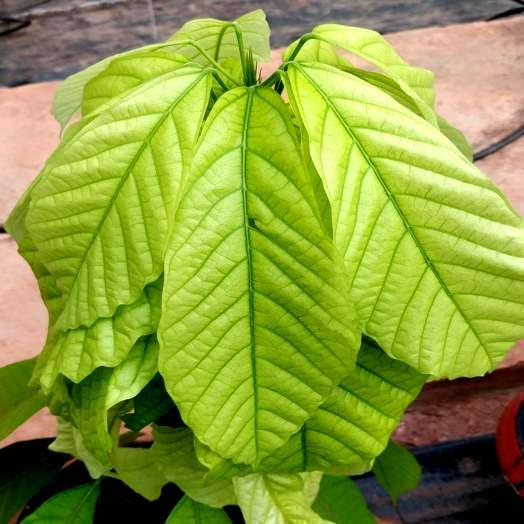Iron: (284, 55, 523, 376), (157, 88, 359, 464), (27, 65, 208, 327), (19, 230, 161, 389), (259, 340, 425, 473), (311, 24, 436, 122), (168, 9, 270, 81), (146, 427, 235, 506), (83, 50, 187, 115), (70, 367, 137, 465), (234, 472, 333, 523), (51, 57, 113, 132), (107, 336, 158, 408), (112, 447, 167, 500), (196, 440, 236, 471)
